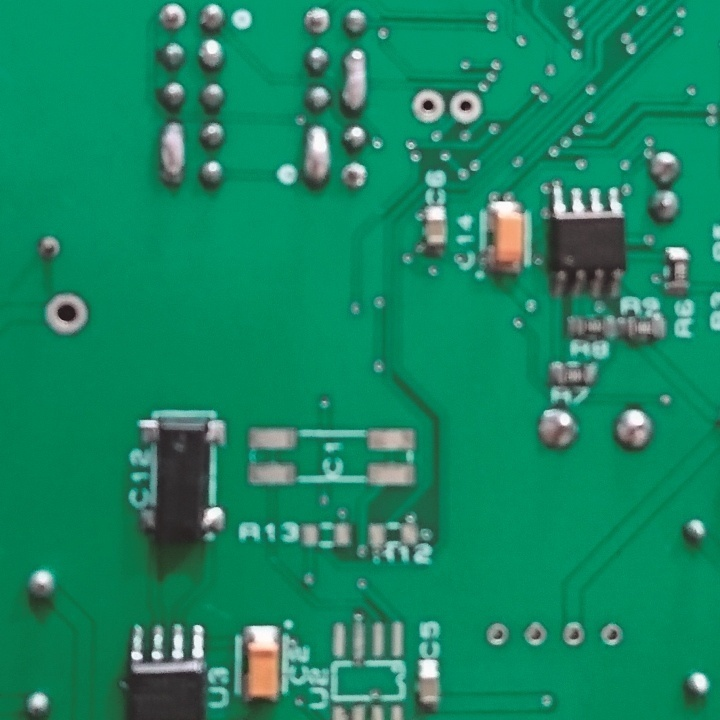F: (43, 291, 92, 338), (410, 87, 446, 126), (446, 86, 479, 126), (158, 2, 189, 34), (342, 159, 369, 194), (303, 6, 330, 39), (36, 233, 64, 264), (559, 618, 586, 648), (484, 618, 510, 649), (596, 623, 625, 650), (521, 619, 547, 649)
P: (304, 123, 333, 186), (343, 47, 370, 112), (159, 121, 185, 186)
